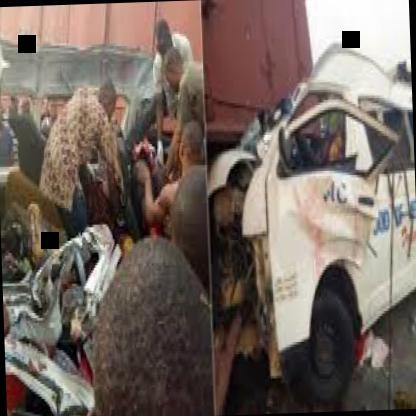accident: (213, 0, 416, 406)
